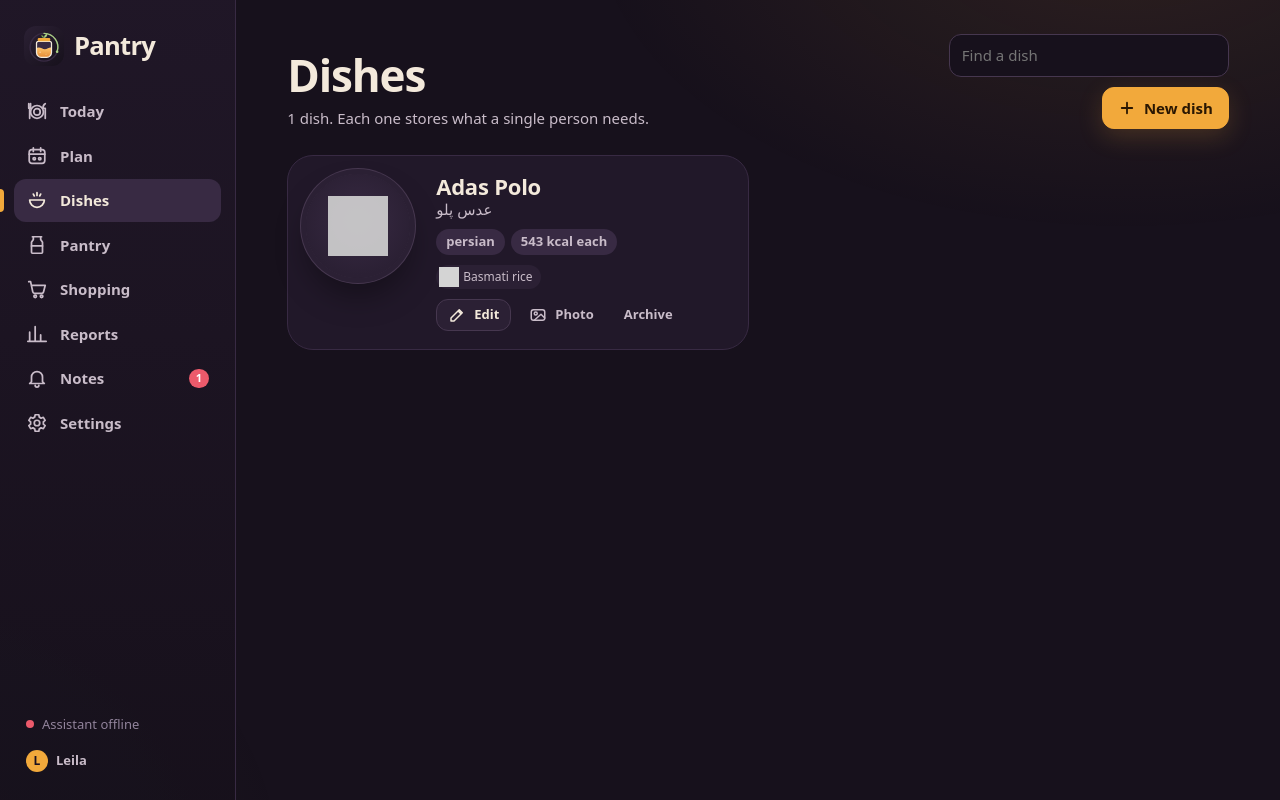
it: pages › lists dishes and filters them
This screenshot has width=1280, height=800.
Expected: the text "543 kcal each" is shown, [511,229,617,255]
Type "pizza" into the field labelled "Find a dish" at (1089,55), box [949,34,1229,76]
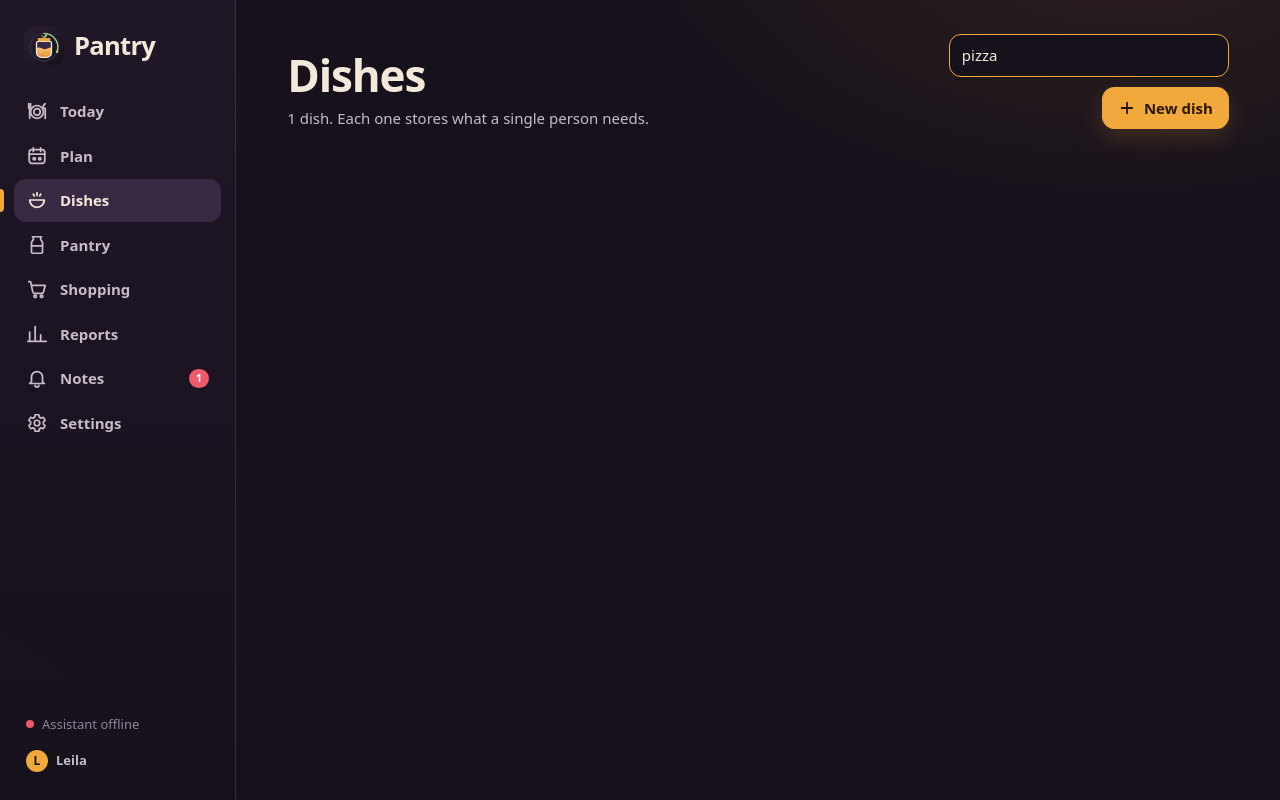
Result: the heading "Adas Polo" is gone
